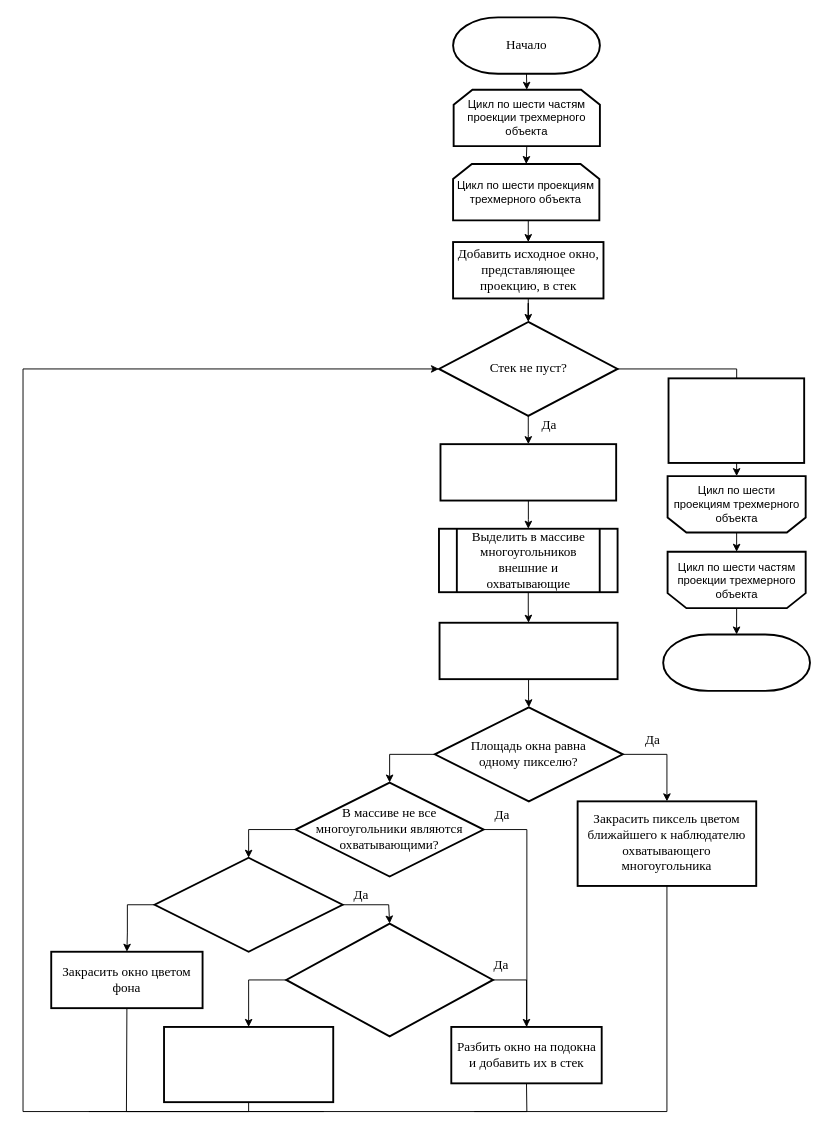
Image size: 827x1136. Some labels were removed from this diagram. The shapes that lost their labels are listed below. From the top down, each one's centre as x and y in pixels, then its label:
At pixel 736 420: "Инициировать отправку части изображения за счет DMA (отправка асинхронная)".
At pixel 528 472: "Извлечь окно из стека".
At pixel 528 650: "Удалить из массива внешние многоугольники".
At pixel 736 662: "Конец".
At pixel 248 904: "В массиве есть охватывающие многоугольники?".
At pixel 389 979: "Среди охватывающих многоугольников нет ближайшего?".
At pixel 248 1064: "Закрасить окно цветом ближайшего к наблюдателю охватывающего многоугольника".
